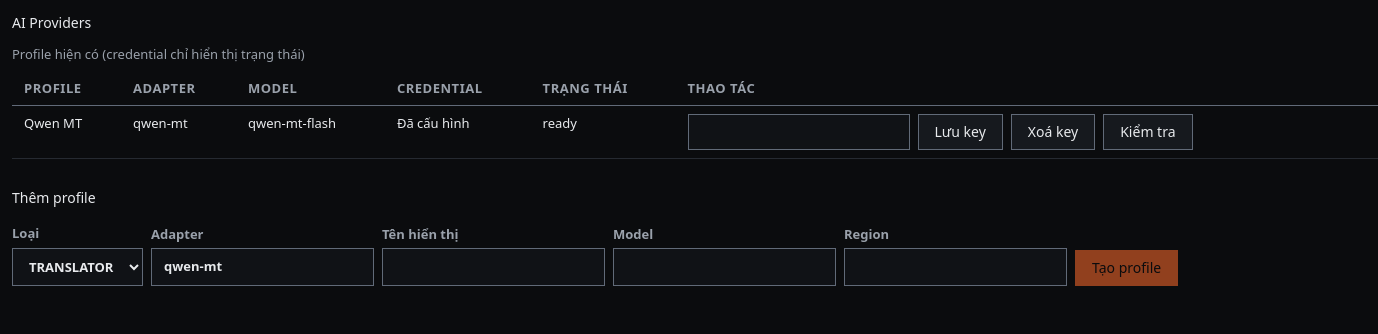
ProfileEditor (U08 part 2) › reports credential validation status and deletes the credential on request
The image size is (1378, 334).
What coordinates should you click on to do the following:
click the button "Kiểm tra"
I would click on:
 (1148, 132)
Its box is left=1103, top=114, right=1192, bottom=150.
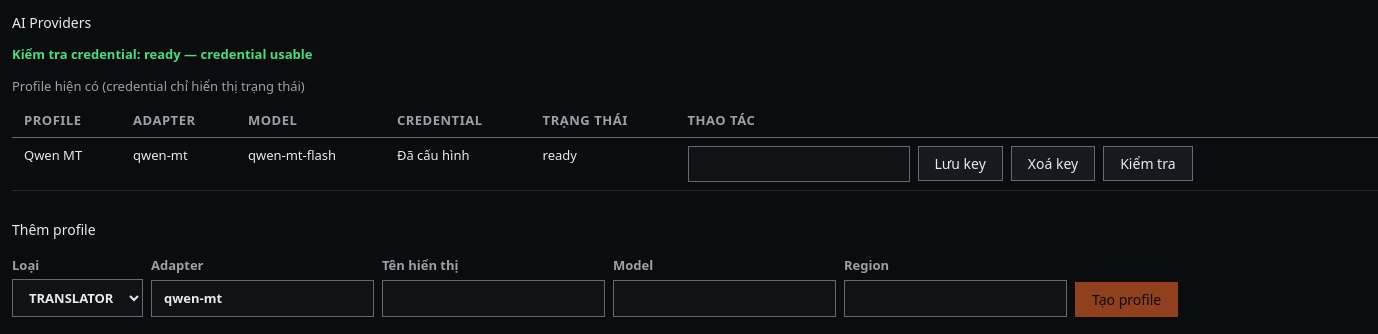
Check: the message shows "ready", box left=12, top=45, right=312, bottom=63
What coordinates should you click on to do the following:
click the button "Xoá key"
I would click on:
 (1053, 164)
Its box is left=1011, top=146, right=1095, bottom=181.
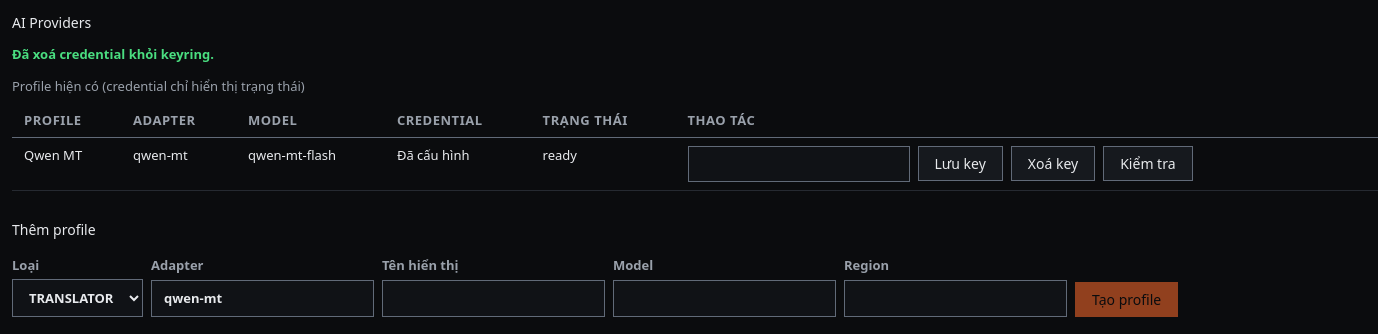
Check: the message shows "Đã xoá credential", box left=12, top=45, right=214, bottom=63
